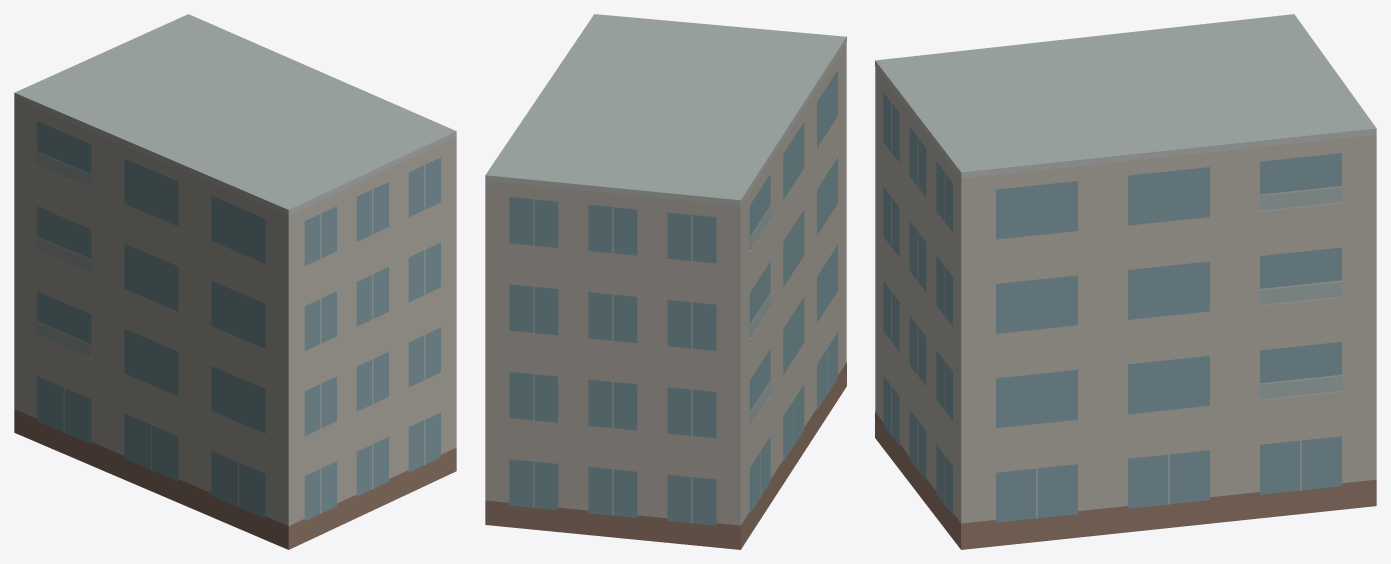
Rendered from survey-upis-32951638.glb.
The picture shows the model from 3 angles, left to right: view 1: azimuth 30°, elevation 25°; view 2: azimuth 150°, elevation 25°; view 3: azimuth 270°, elevation 25°; orthographic projection. The views are drawn at different scales.
Parts seen in each view (by area): view 1: survey-upis-32951638.tmp; view 2: survey-upis-32951638.tmp; view 3: survey-upis-32951638.tmp.
Part boxes in pixels (x1,y1,x2,y2): survey-upis-32951638.tmp: [14, 14, 456, 549]; survey-upis-32951638.tmp: [485, 14, 846, 549]; survey-upis-32951638.tmp: [875, 14, 1376, 549].
Size of the model in its own units: 13.1 by 14.55 by 17.53.
